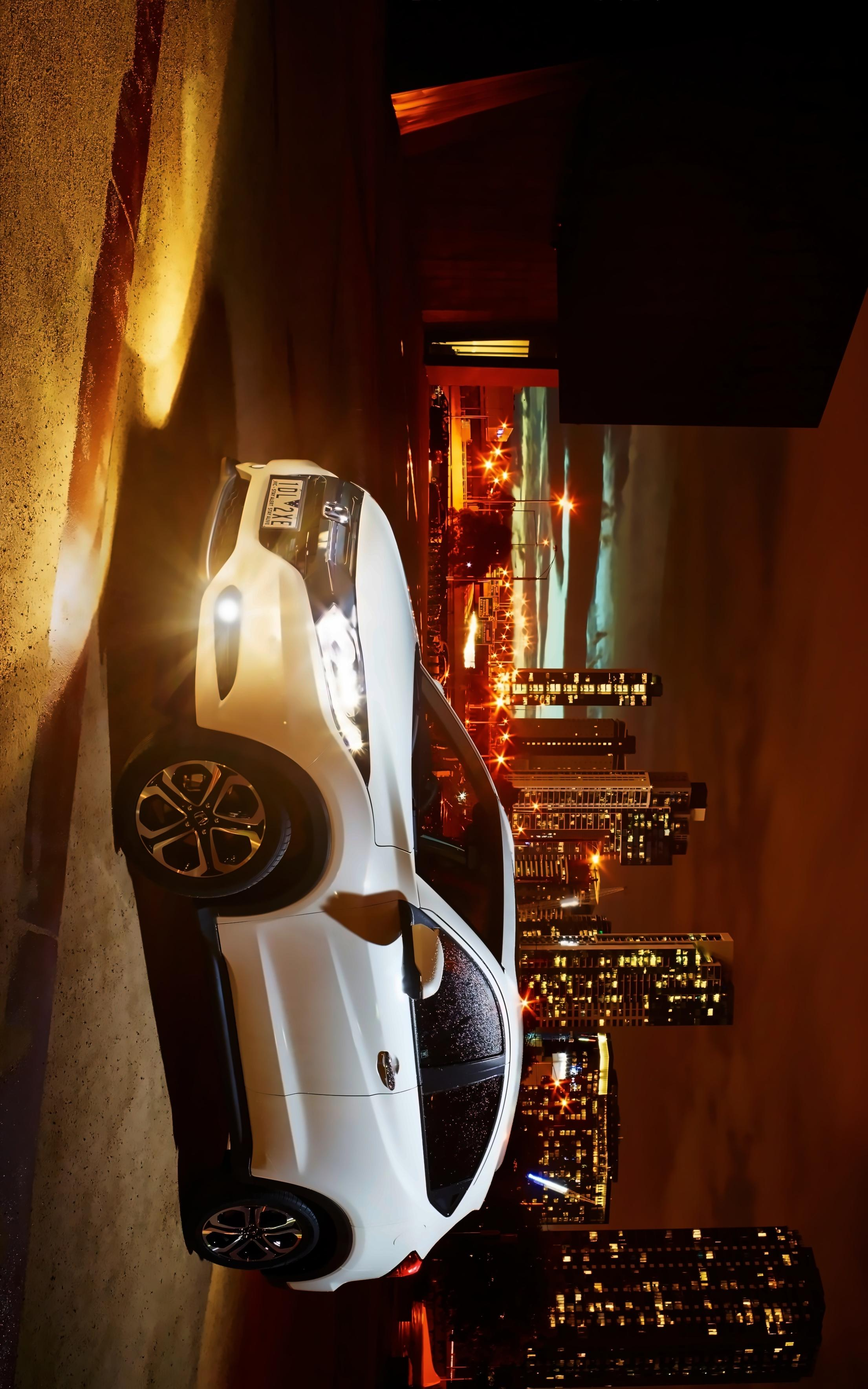Car hood: (352, 480, 420, 860)
Fender - -F-L-: (209, 750, 433, 932)
Fender - -R-L-: (230, 1125, 515, 1288)
Front bumper: (186, 447, 331, 752)
Headlight - -L-: (315, 596, 375, 786)
Passenger-s door - -F-L-: (187, 905, 519, 1110)
Rear light - -L-: (337, 1247, 434, 1296)
Side bumper - -L-: (196, 893, 282, 1180)
Side mirror - -L-: (399, 909, 450, 1002)
